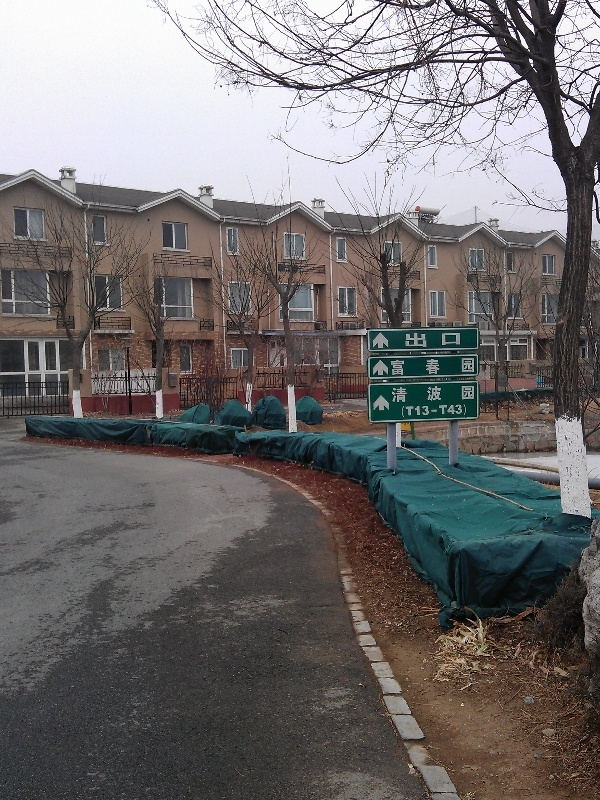text: (401, 384, 416, 404), (417, 384, 432, 404), (433, 384, 448, 404), (449, 384, 464, 404), (401, 358, 416, 376), (417, 358, 432, 376), (433, 358, 448, 376), (449, 358, 464, 376), (417, 332, 432, 349), (433, 332, 448, 349), (449, 332, 463, 349), (403, 332, 416, 349), (465, 384, 476, 404), (389, 358, 400, 376), (465, 358, 476, 376), (401, 404, 416, 417), (417, 404, 432, 417), (433, 404, 448, 417), (449, 404, 464, 417), (391, 384, 400, 404), (465, 404, 468, 417)
